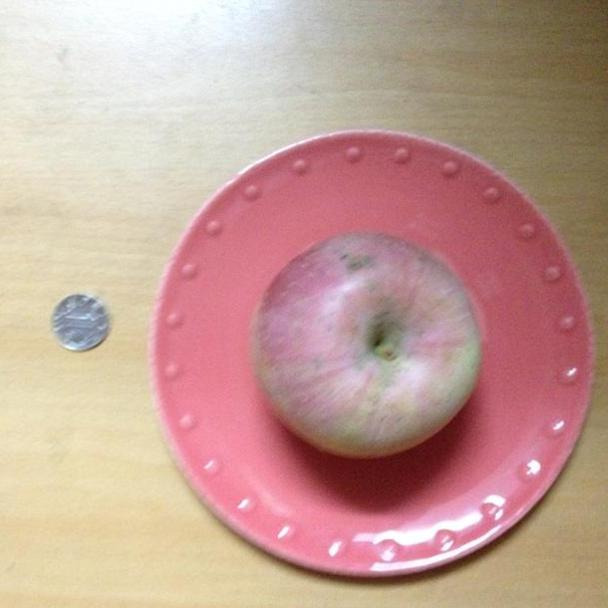apple: (252, 233, 482, 460)
